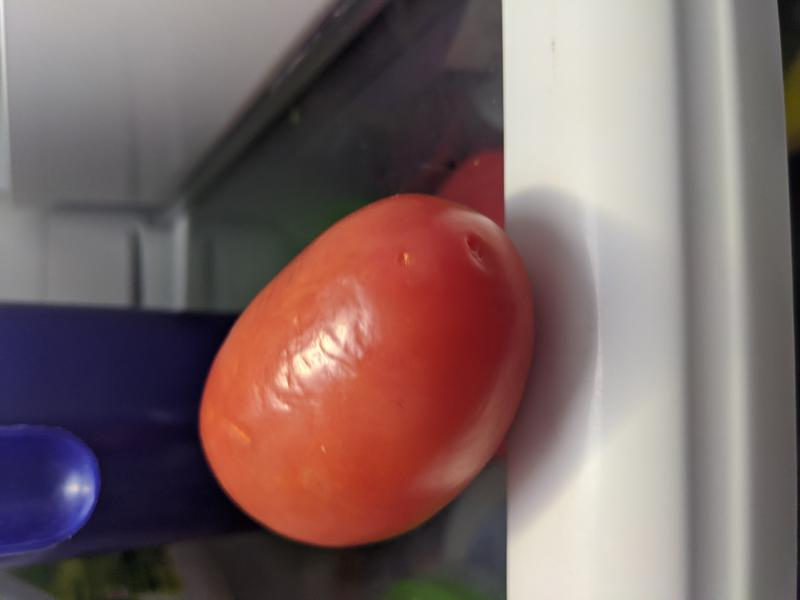tomato: (197, 191, 538, 550)
